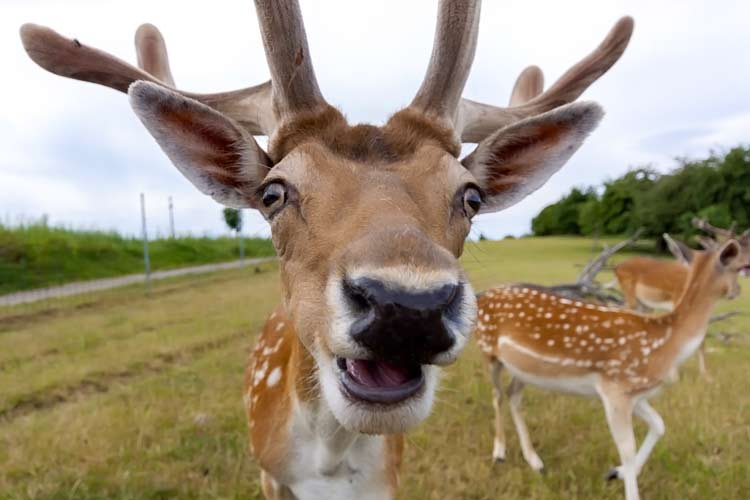Deer: (19, 1, 635, 499), (464, 228, 743, 486)
